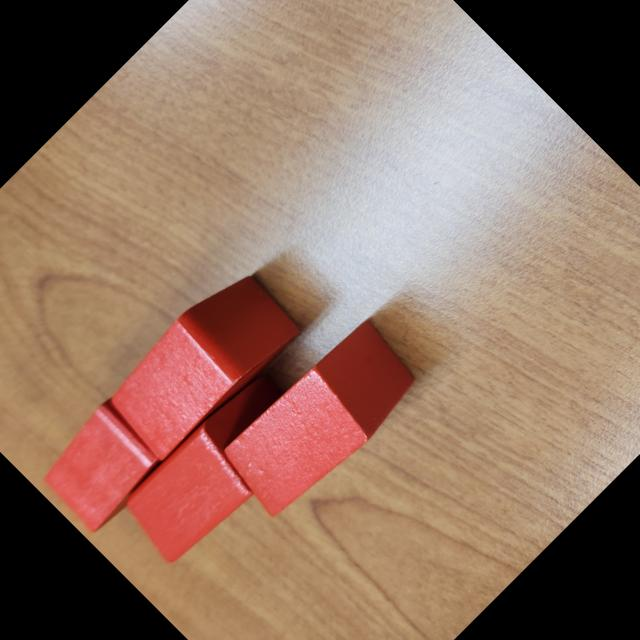red: (213, 312, 429, 528), (93, 258, 305, 471), (107, 366, 318, 577), (28, 392, 175, 540)
